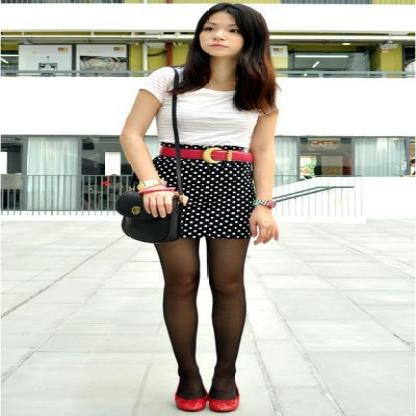bag: (116, 108, 184, 254)
shirt: (127, 66, 259, 156)
shoe: (175, 388, 238, 416)
skirt: (153, 158, 265, 239)
